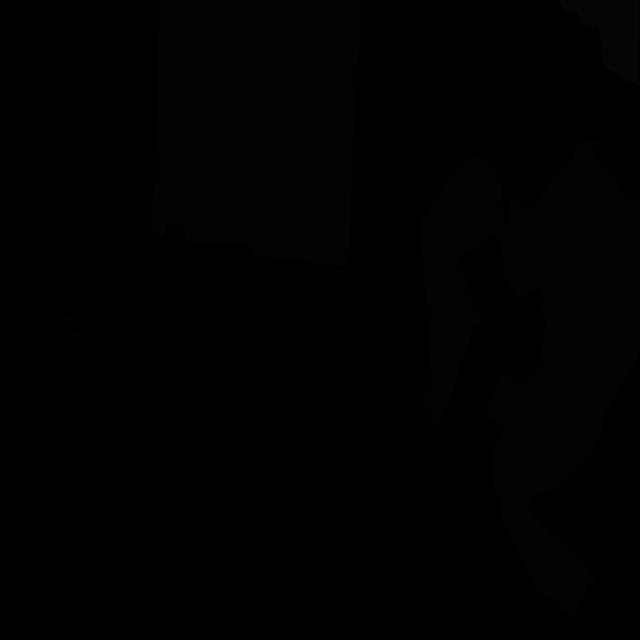cardboard: (151, 0, 362, 267), (486, 327, 640, 495), (502, 138, 640, 320), (419, 154, 507, 428), (491, 426, 598, 617), (536, 285, 640, 374)
rigid_plastic: (0, 303, 159, 527)
soft_plastic: (558, 0, 640, 88)
